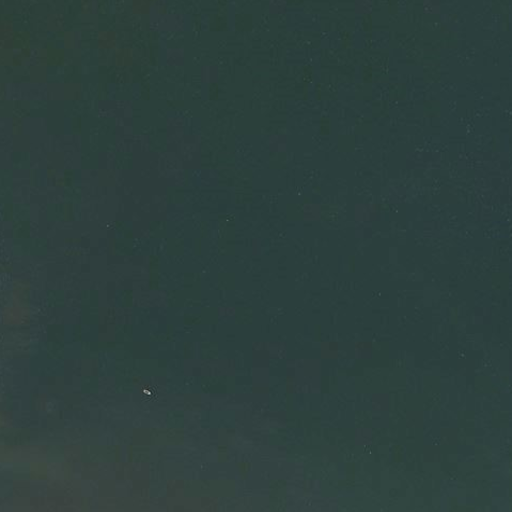ship: (140, 387, 152, 397)
